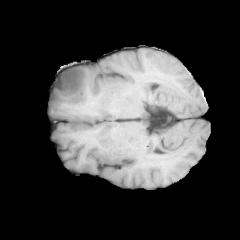glioma: (55, 66, 90, 105)
